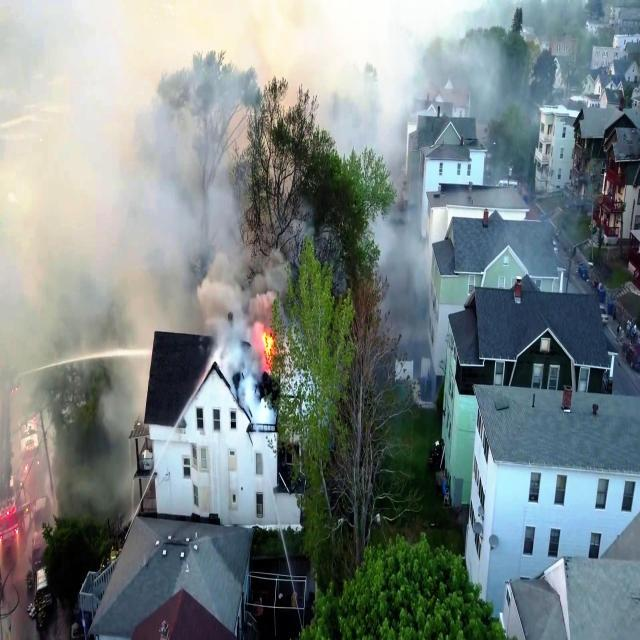Fire: (258, 314, 280, 375)
Smoke: (0, 0, 251, 357), (252, 1, 612, 140), (2, 360, 148, 532), (370, 207, 436, 386)
